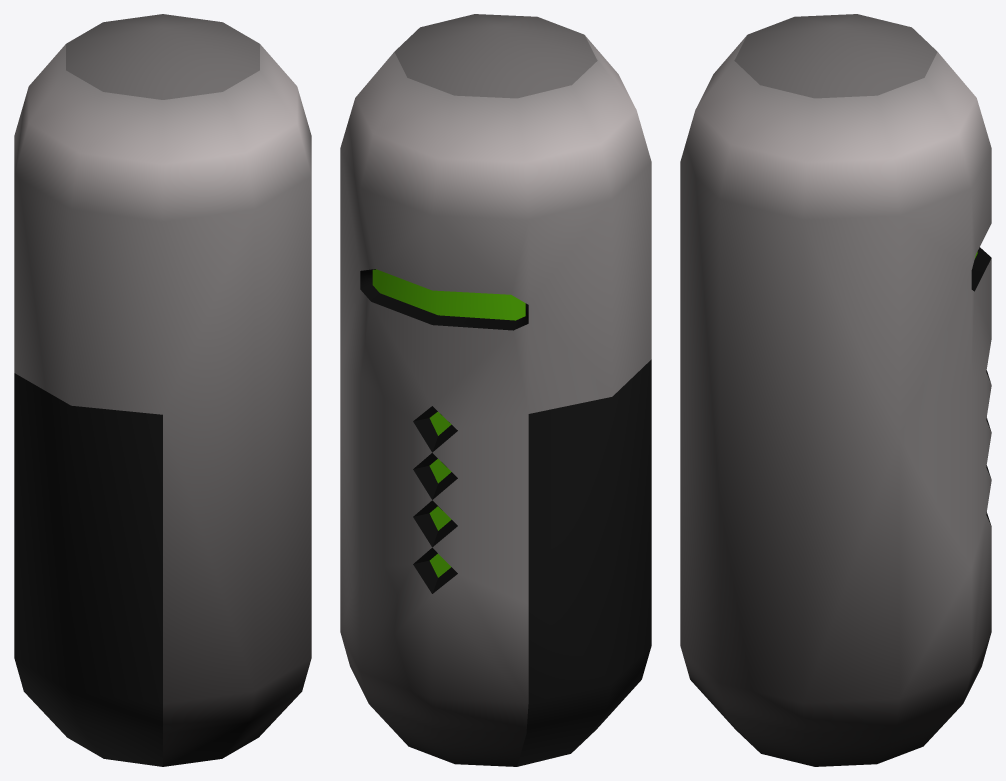
The model's file is Alien_Scrap04.fbx.
The picture shows the model from 3 angles, left to right: view 1: azimuth 30°, elevation 25°; view 2: azimuth 150°, elevation 25°; view 3: azimuth 270°, elevation 25°; orthographic projection.
Visible parts, largest first — view 1: Alien_Scrap04; view 2: Alien_Scrap04; view 3: Alien_Scrap04.
Boxes of the visible parts, x1=… form: Alien_Scrap04: x1=14, y1=14, x2=311, y2=766; Alien_Scrap04: x1=340, y1=14, x2=651, y2=766; Alien_Scrap04: x1=680, y1=14, x2=991, y2=766.
Bounding box in the file's own units: 577 × 1453 × 587.
